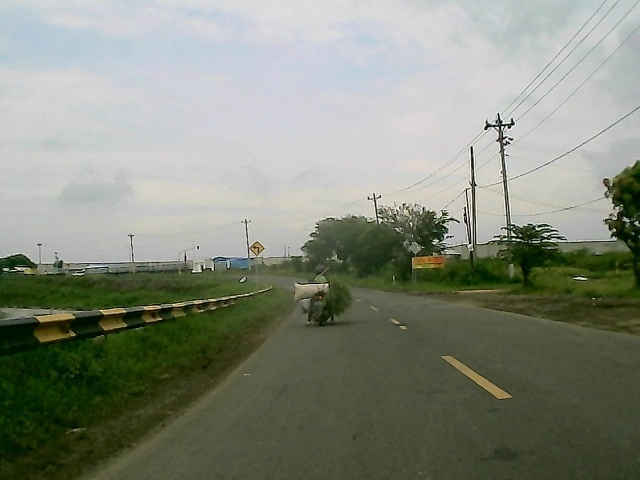Tikungan tajam ke kiri: (248, 239, 266, 259)
